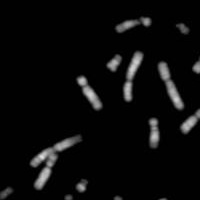chromosome: (30, 134, 83, 168), (158, 60, 183, 109), (123, 50, 142, 102), (34, 153, 60, 190), (77, 75, 103, 110), (116, 16, 152, 33), (180, 108, 200, 135), (148, 116, 160, 149), (106, 55, 121, 72), (192, 48, 200, 73), (75, 177, 88, 192), (175, 21, 188, 35), (0, 187, 12, 200), (64, 193, 76, 200), (111, 193, 122, 200), (134, 198, 169, 200)
